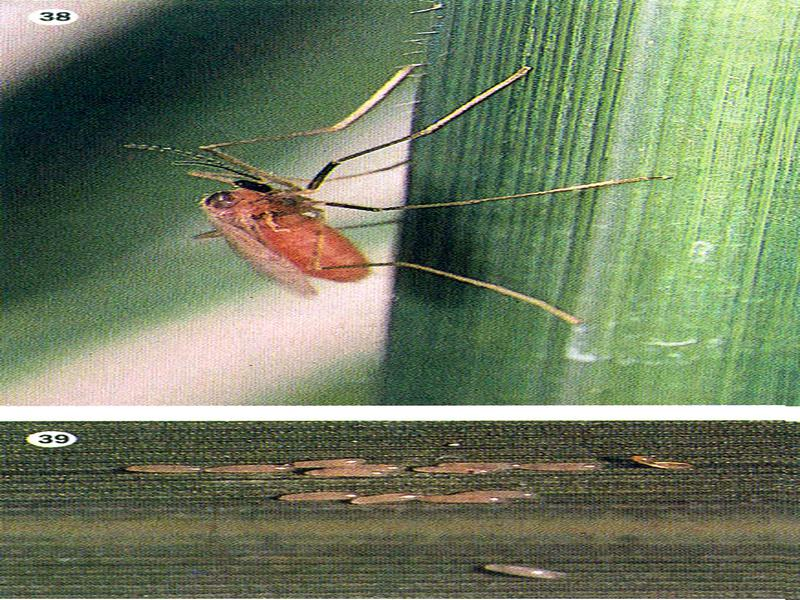Gall_midge: (161, 120, 415, 328)
